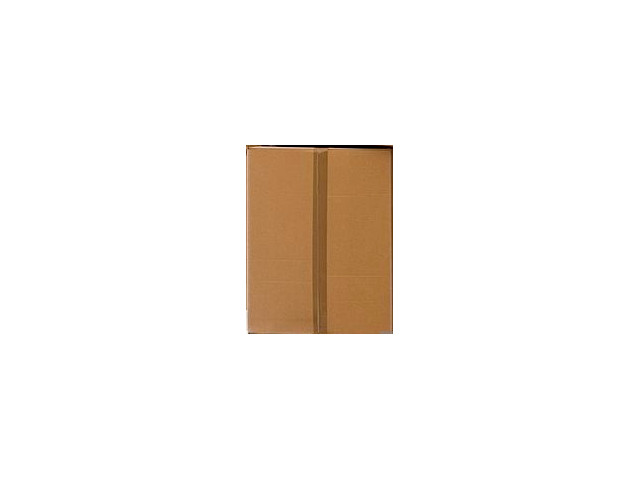cardboard: (248, 149, 390, 332)
